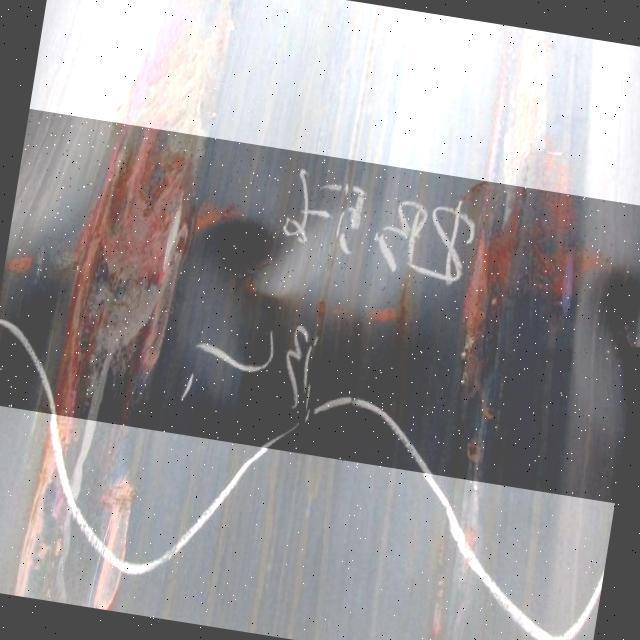dent: (1, 110, 640, 506)
